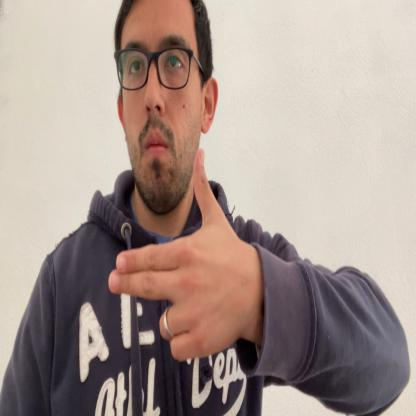H: (109, 147, 257, 361)
